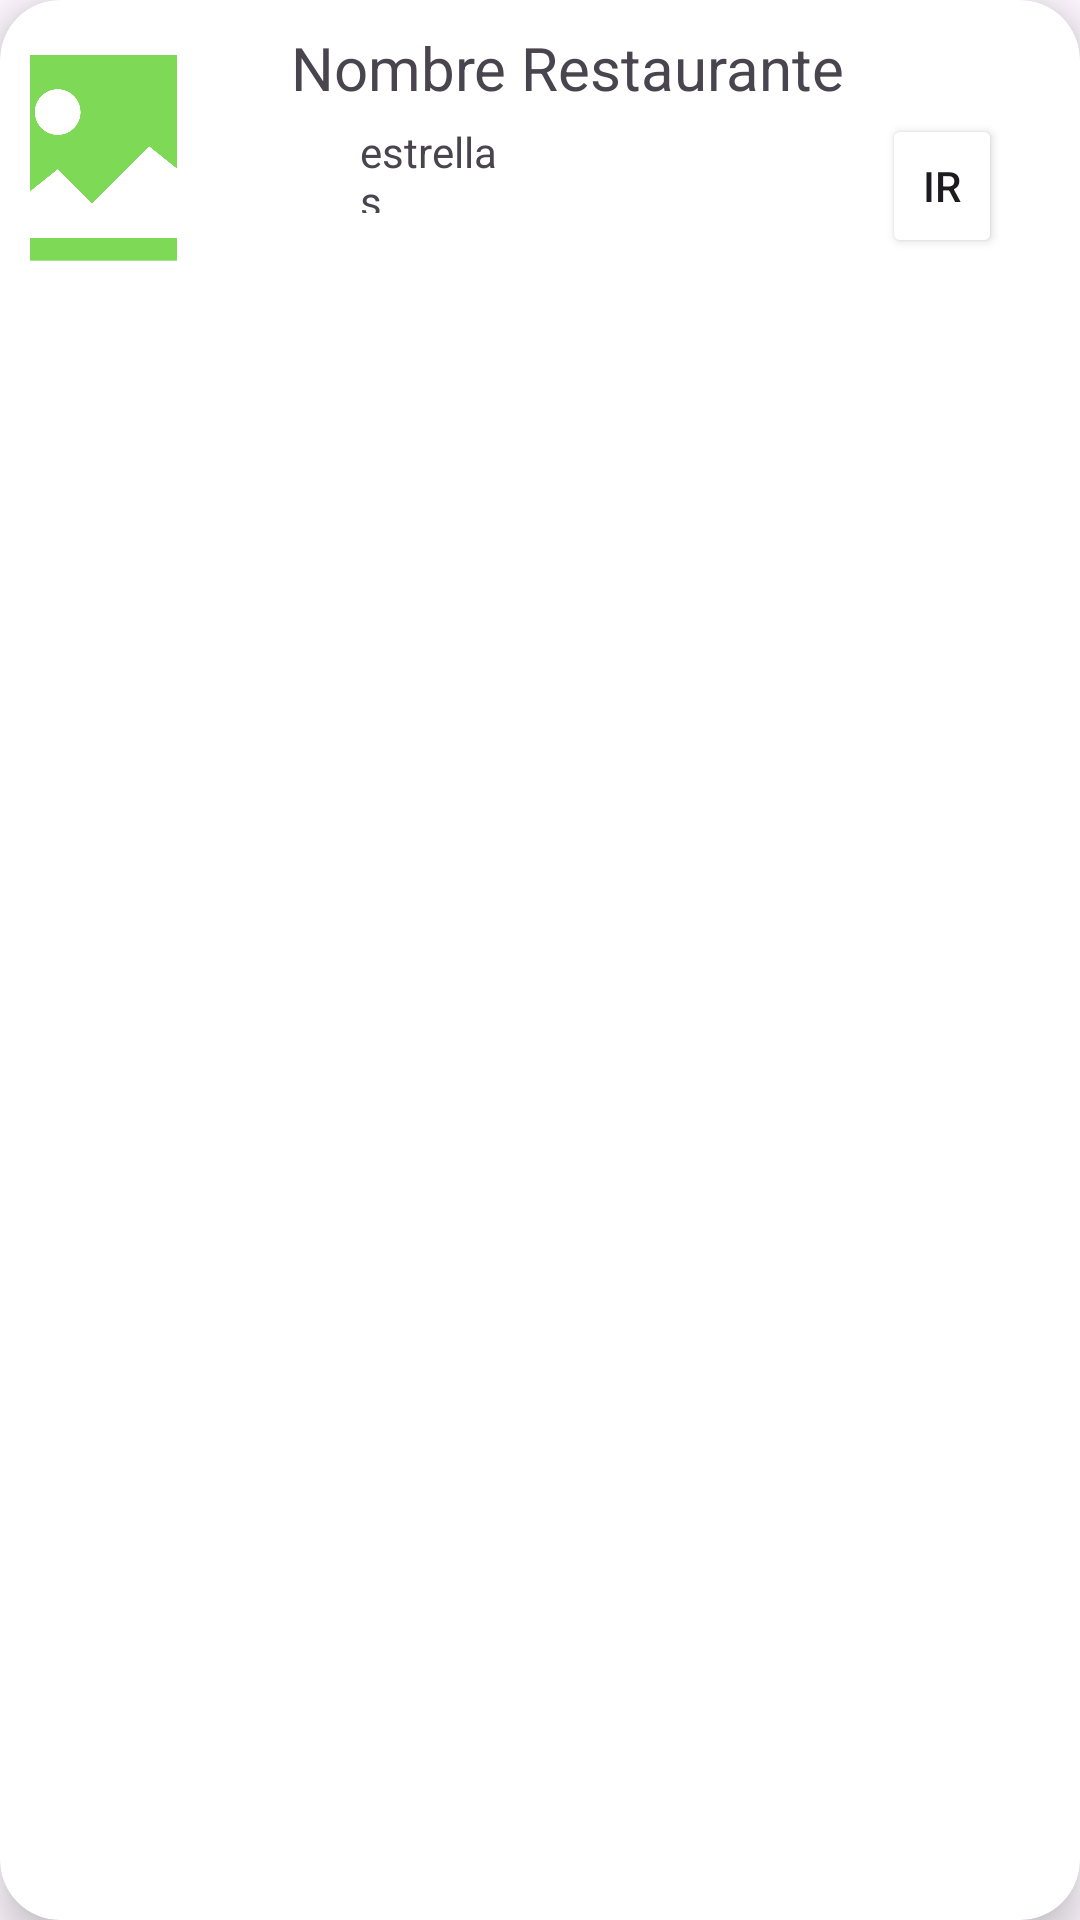

Point at icon controls on the screen. Image size 1080×1920, points as [x,y].
uploadimg: [103,158]
